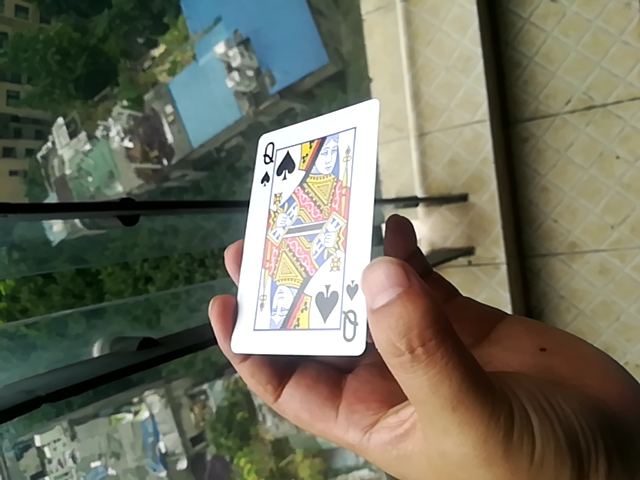ht q: (234, 98, 379, 361)
